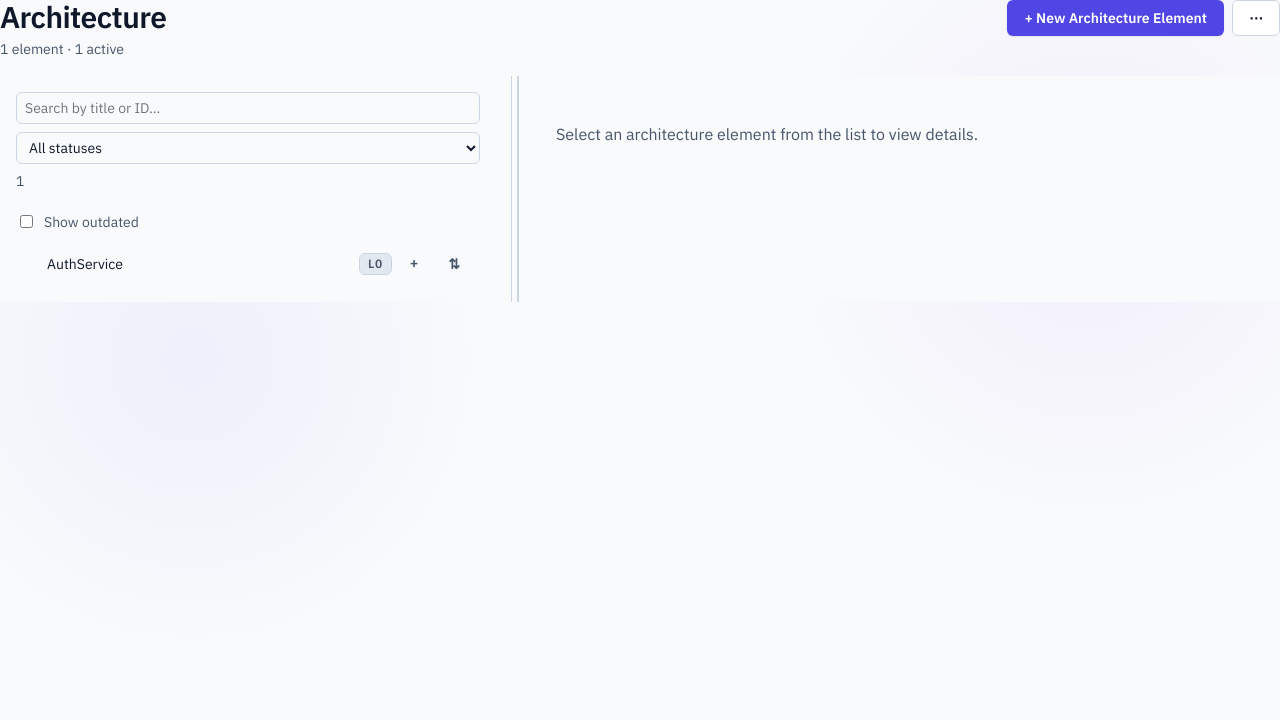
Test: ArchitectureEditors — server validation errors are visible (#340) › renders the server's rejection reason when a create is refused
Click the button with test id "create-arch-btn". click: click(1116, 18)
box: [1007,0,1224,36]
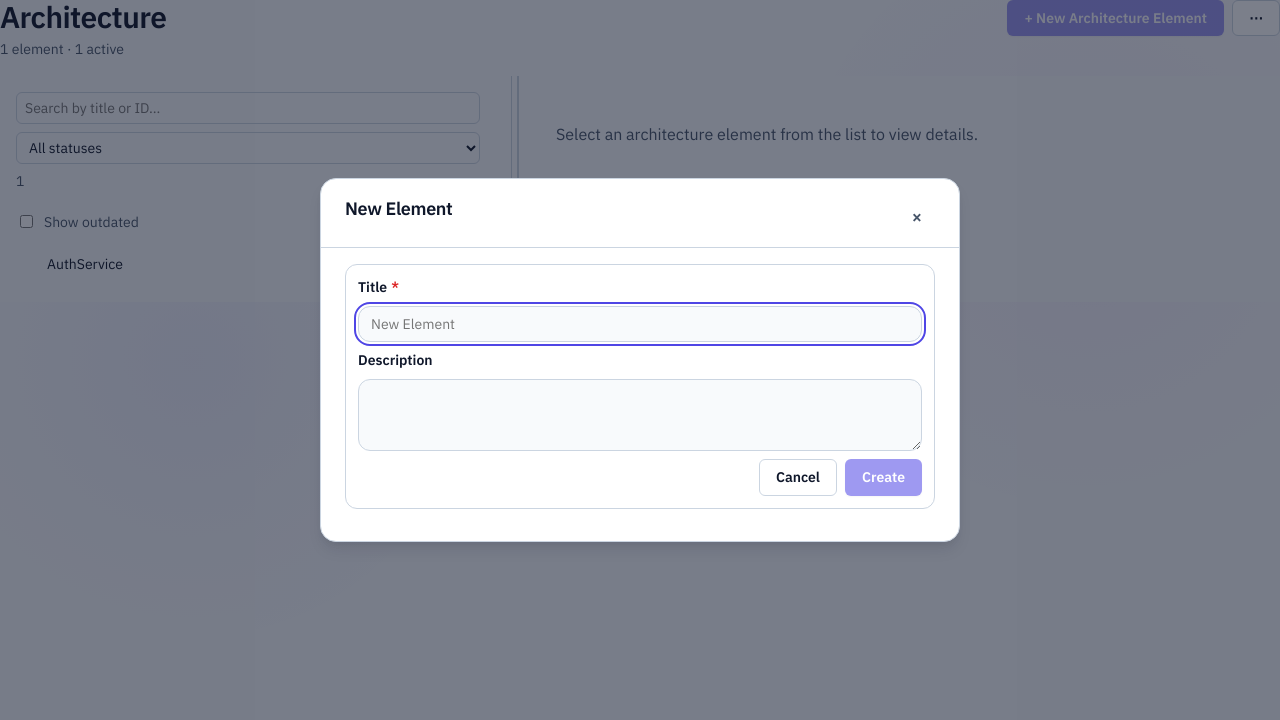
Type "<script>alert(1)</script>" into the field with test id "arch-new-title-input". click: (640, 324)
box: [358,306,922,342]
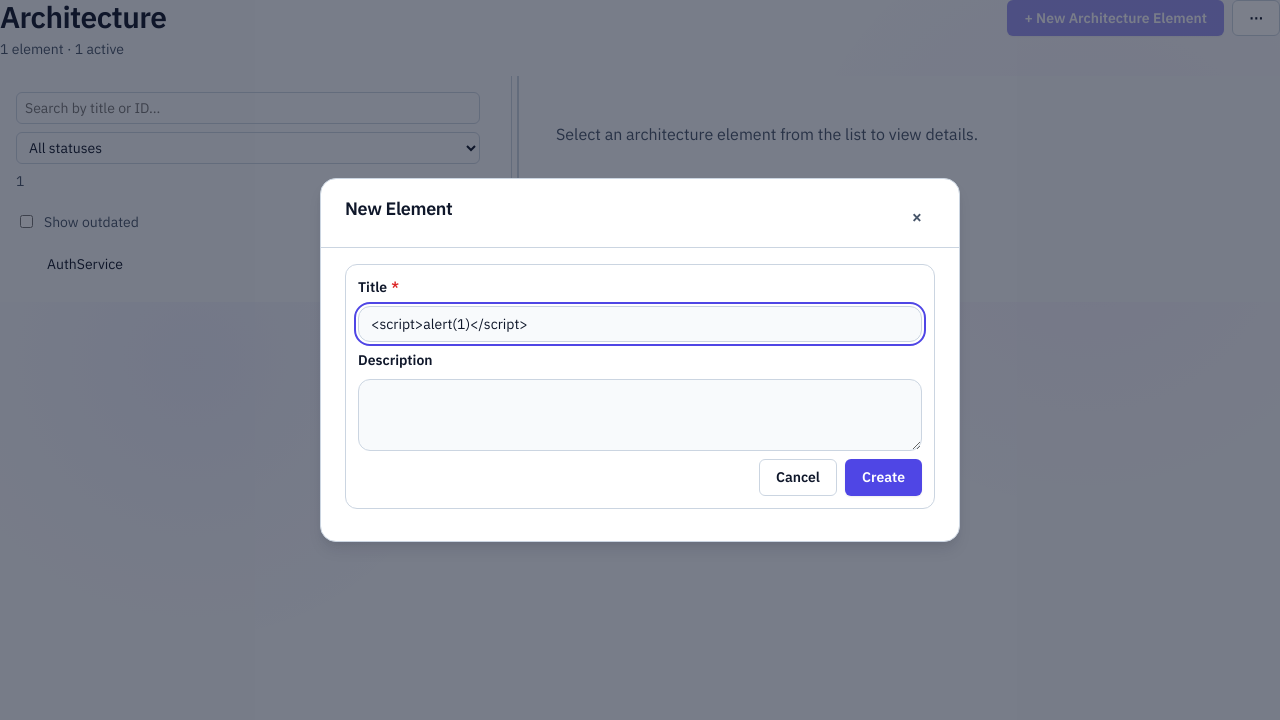
Click the button with test id "arch-new-save-btn". click: click(884, 478)
box: [845,459,922,496]
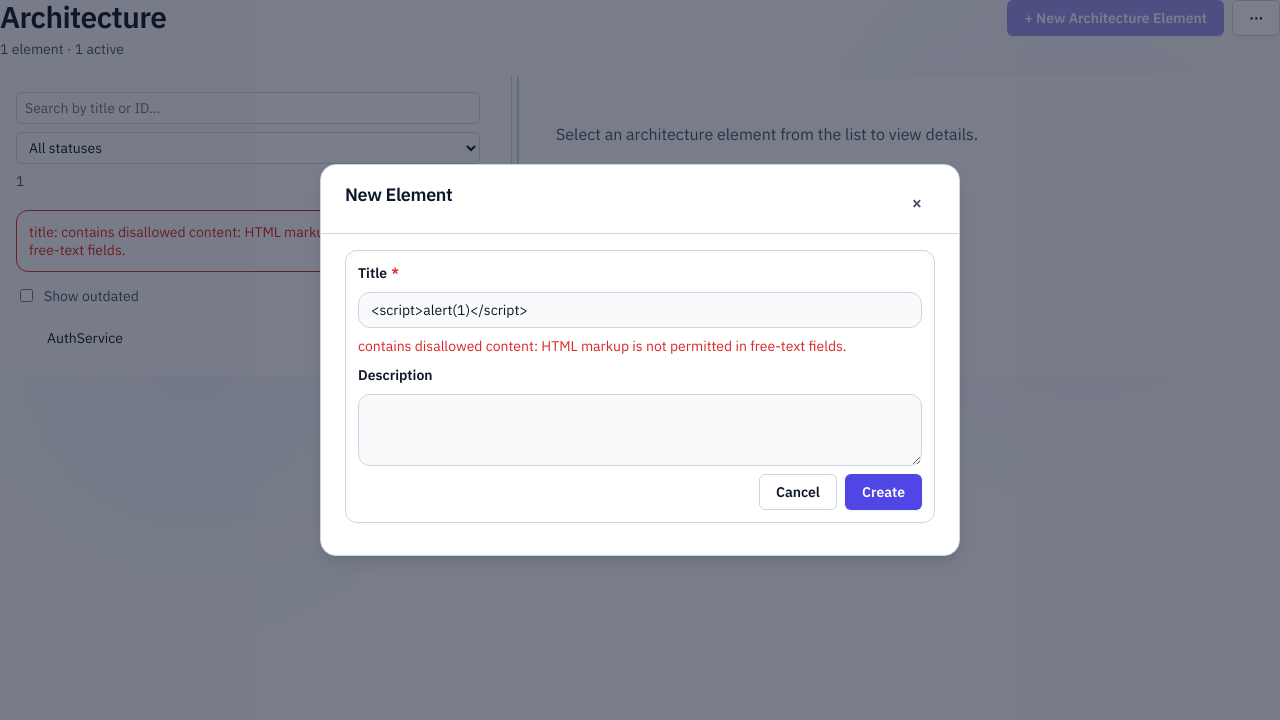
Now the message with test id "arch-action-error" shows "HTML markup is not permitted in free-text fields.", box [29,222,450,258]
